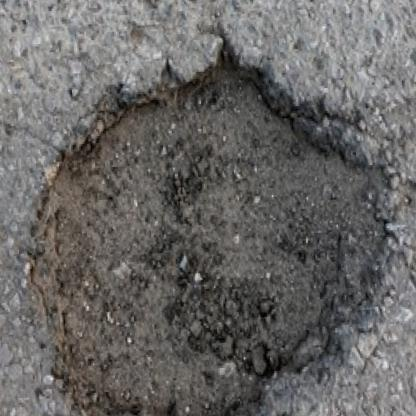pothole: (7, 26, 416, 416)
